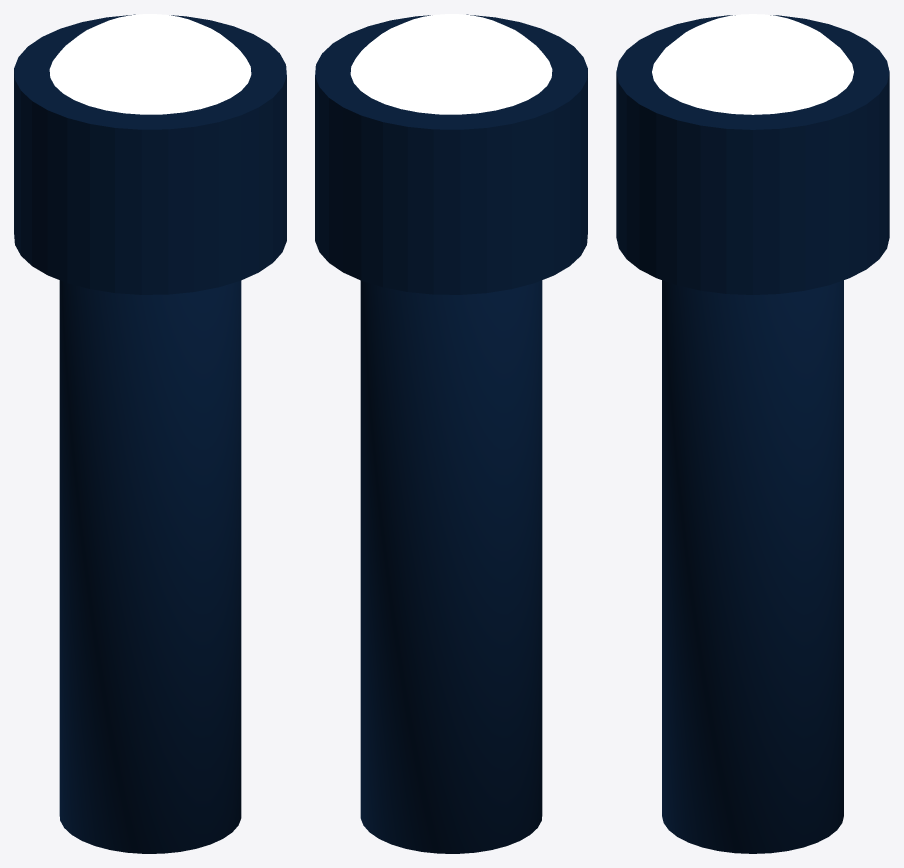
The model's file is linterna.glb.
The picture shows the model from 3 angles, left to right: view 1: azimuth 30°, elevation 25°; view 2: azimuth 150°, elevation 25°; view 3: azimuth 270°, elevation 25°; orthographic projection.
Visible parts, largest first — view 1: Cilindro, Cilindro.001, Esfera; view 2: Cilindro, Cilindro.001, Esfera; view 3: Cilindro, Cilindro.001, Esfera.
Boxes of the visible parts, left/top/right/bottom form: Cilindro: left=59, top=280, right=241, bottom=853; Cilindro.001: left=14, top=14, right=286, bottom=294; Esfera: left=49, top=14, right=251, bottom=114; Cilindro: left=360, top=280, right=542, bottom=853; Cilindro.001: left=315, top=14, right=587, bottom=294; Esfera: left=350, top=14, right=552, bottom=114; Cilindro: left=662, top=280, right=843, bottom=853; Cilindro.001: left=616, top=15, right=889, bottom=294; Esfera: left=652, top=14, right=853, bottom=114.
Size of the model in its own units: 0.75 by 2.39 by 0.75.
Materials: 3 (3 with a texture image).
